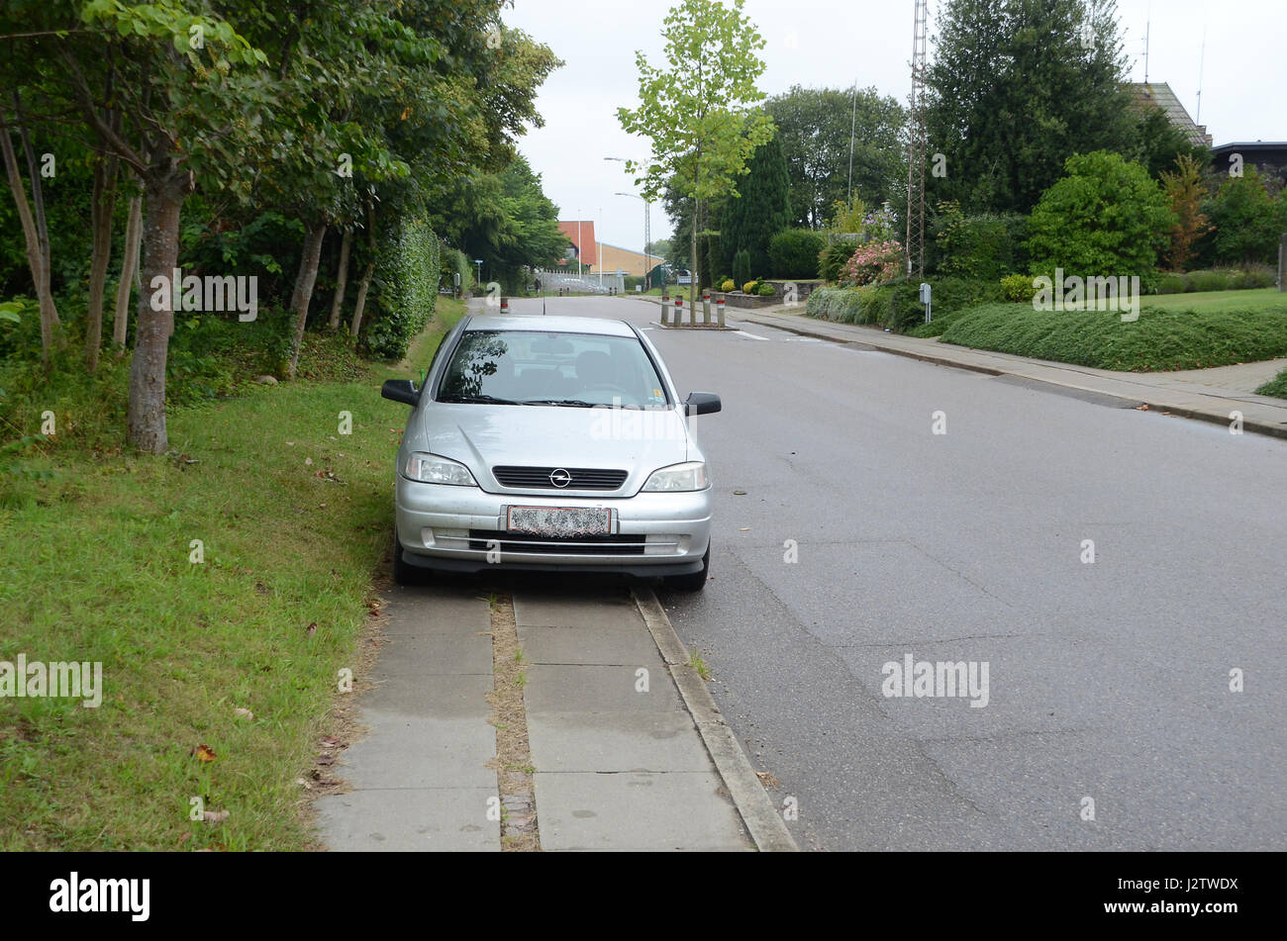Car: (374, 304, 725, 601)
Tree: (37, 7, 266, 467), (227, 15, 389, 379), (632, 10, 746, 331), (1017, 141, 1169, 273)
